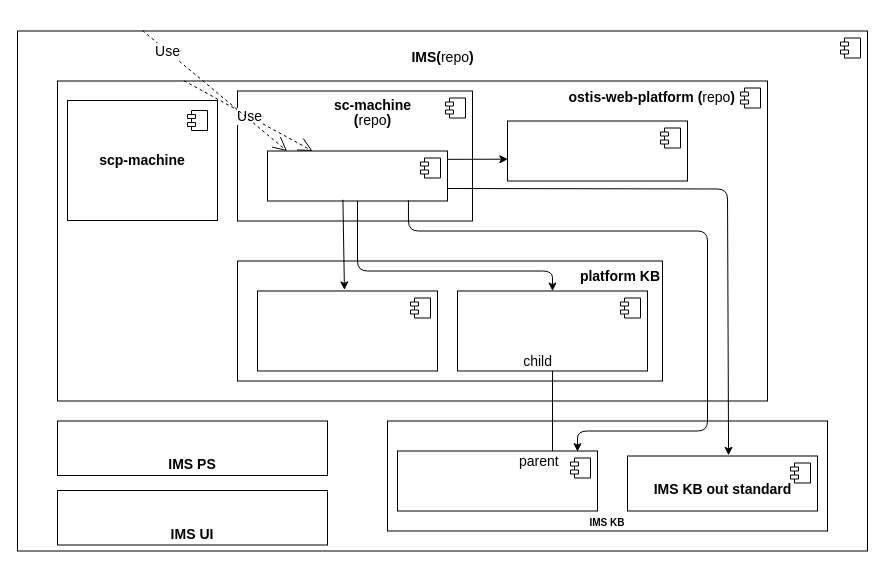
This 885x569 diagram has some shape labels left out. Here are the shapes that lost their labels. From the top down, the centre of each, then its label:
At point (597, 150): "sc-web (repo)".
At point (357, 175): "Component Manager".
At point (347, 330): "Platform KB out standard".
At point (552, 330): "Platform KB should be in standard".
At point (497, 480): "IMS KB should be in standrad".
